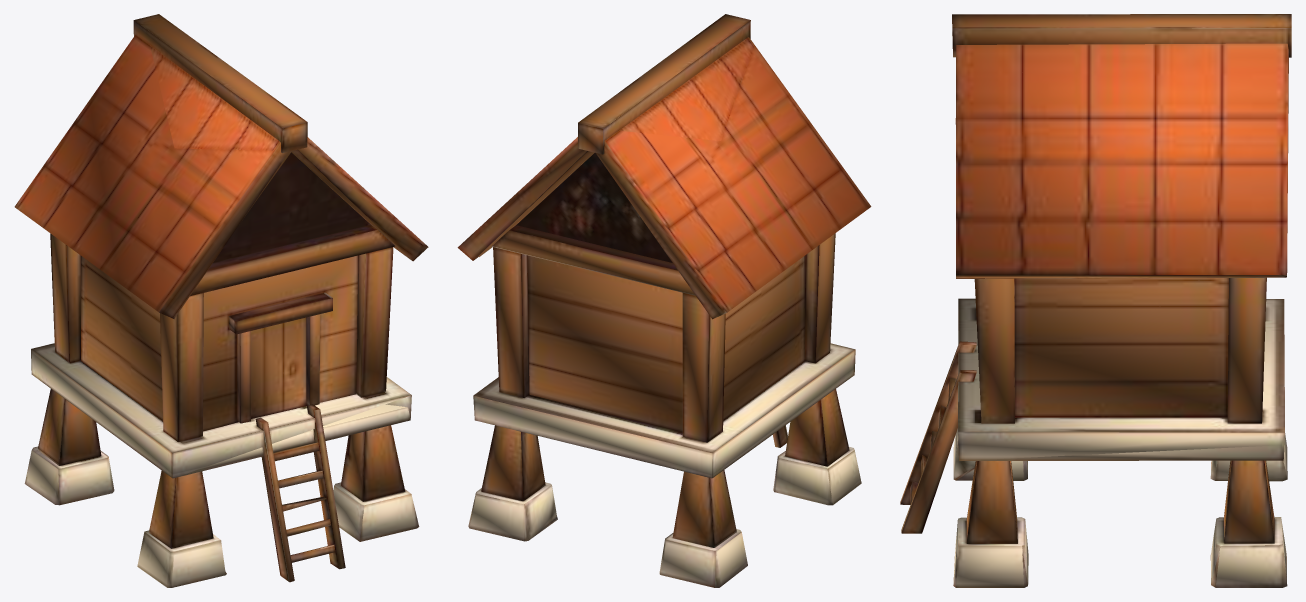
3 views of the same model, side by side, from view 1: azimuth 30°, elevation 25°; view 2: azimuth 150°, elevation 25°; view 3: azimuth 270°, elevation 25° (orthographic). The views are drawn at different scales.
Parts seen in each view (by area): view 1: supply; view 2: supply; view 3: supply.
Part boxes in pixels (x1,y1,x2,y2): supply: (14, 14, 428, 587); supply: (457, 14, 871, 587); supply: (900, 14, 1291, 587).
Size of the model in its own units: 0.8207 by 1.26 by 0.9.
Materials: 1 (1 with a texture image).
